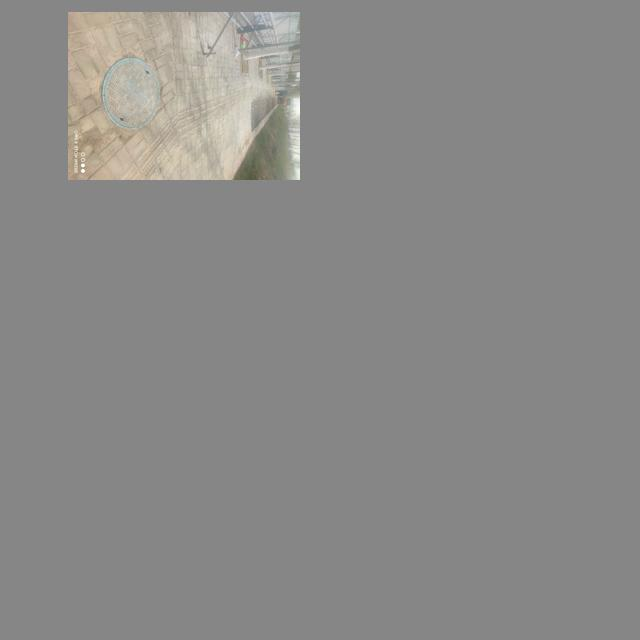good: (102, 57, 160, 129)
